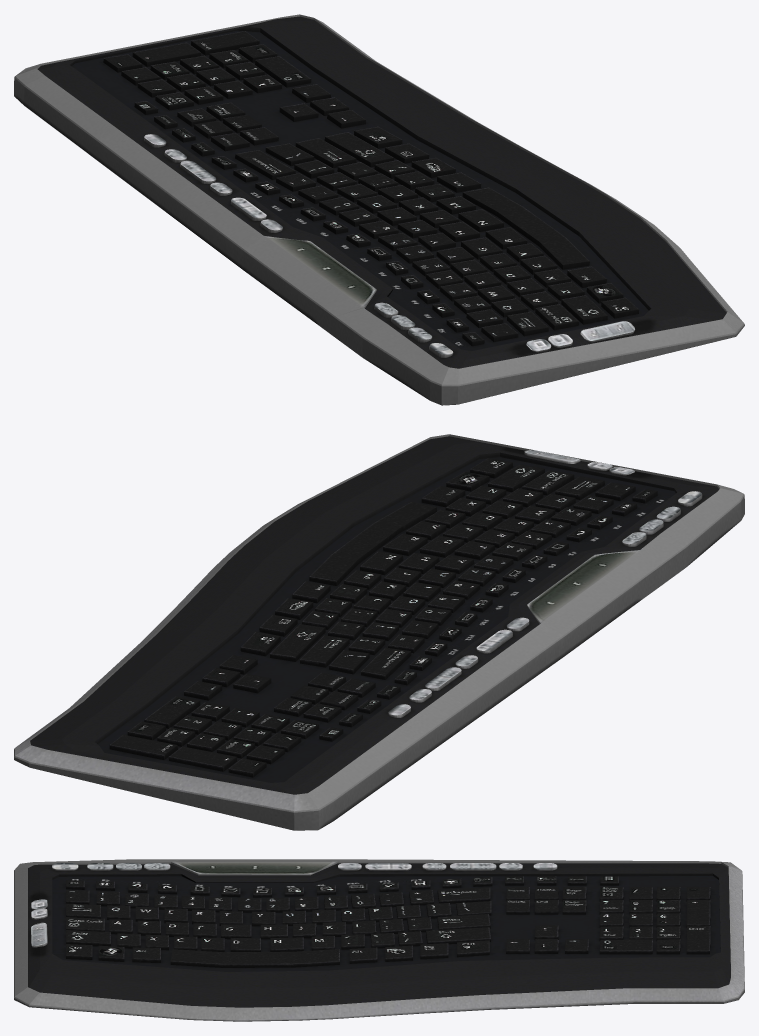
File: Keyboard.glb
3 renders of one model, top to bottom at view 1: azimuth 30°, elevation 25°; view 2: azimuth 150°, elevation 25°; view 3: azimuth 270°, elevation 25°, orthographic. The views are drawn at different scales.
Visible parts, largest first — view 1: 10105_Computer Keyboard_v1_L3; view 2: 10105_Computer Keyboard_v1_L3; view 3: 10105_Computer Keyboard_v1_L3.
Part boxes in pixels (x1,y1,x2,y2): 10105_Computer Keyboard_v1_L3: (14, 14, 744, 405); 10105_Computer Keyboard_v1_L3: (14, 434, 744, 830); 10105_Computer Keyboard_v1_L3: (14, 859, 744, 1021).
Bounding box in the file's own units: 0.681 × 0.0567 × 1.45.
1 material, 1 textured.
